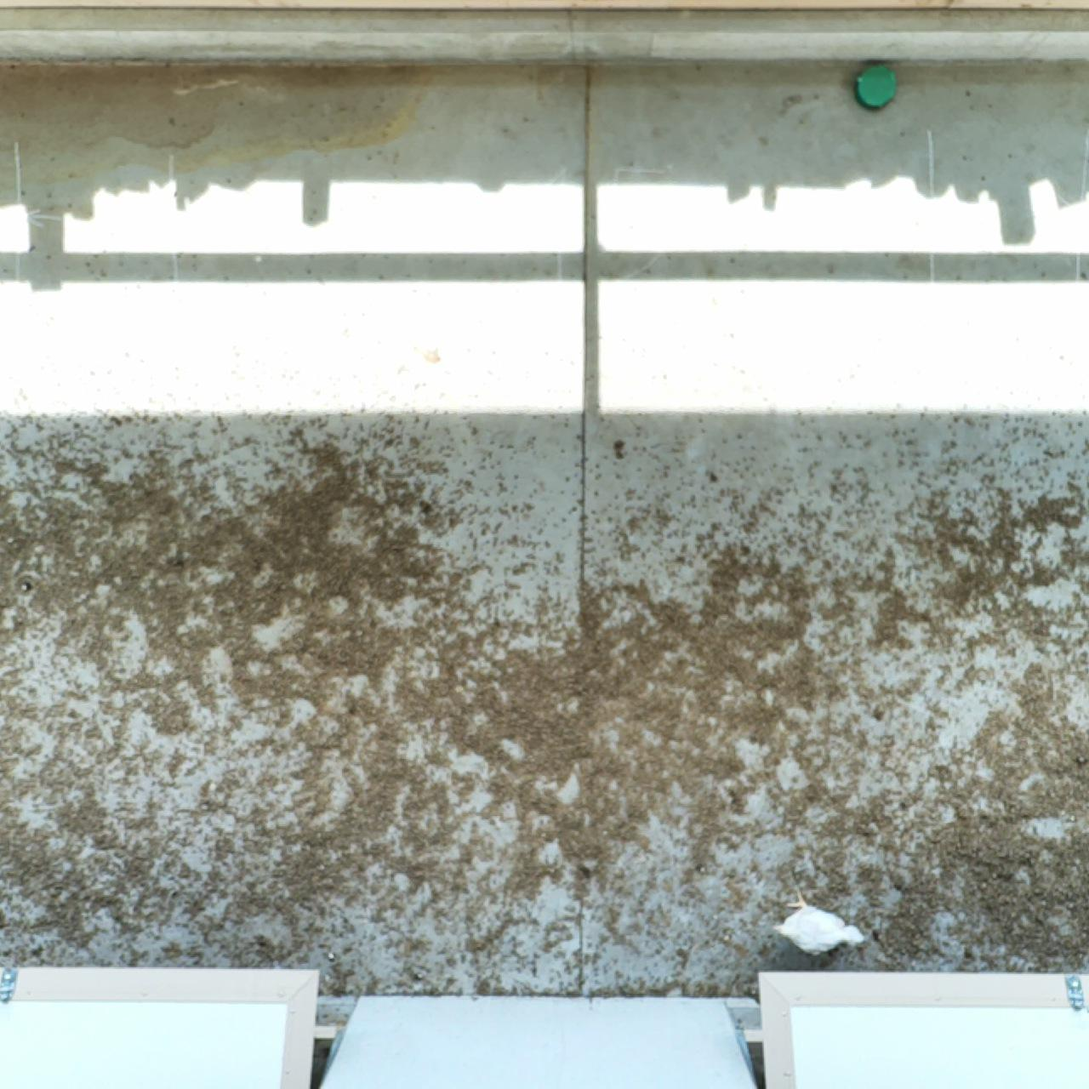chicken: (768, 887, 866, 960)
